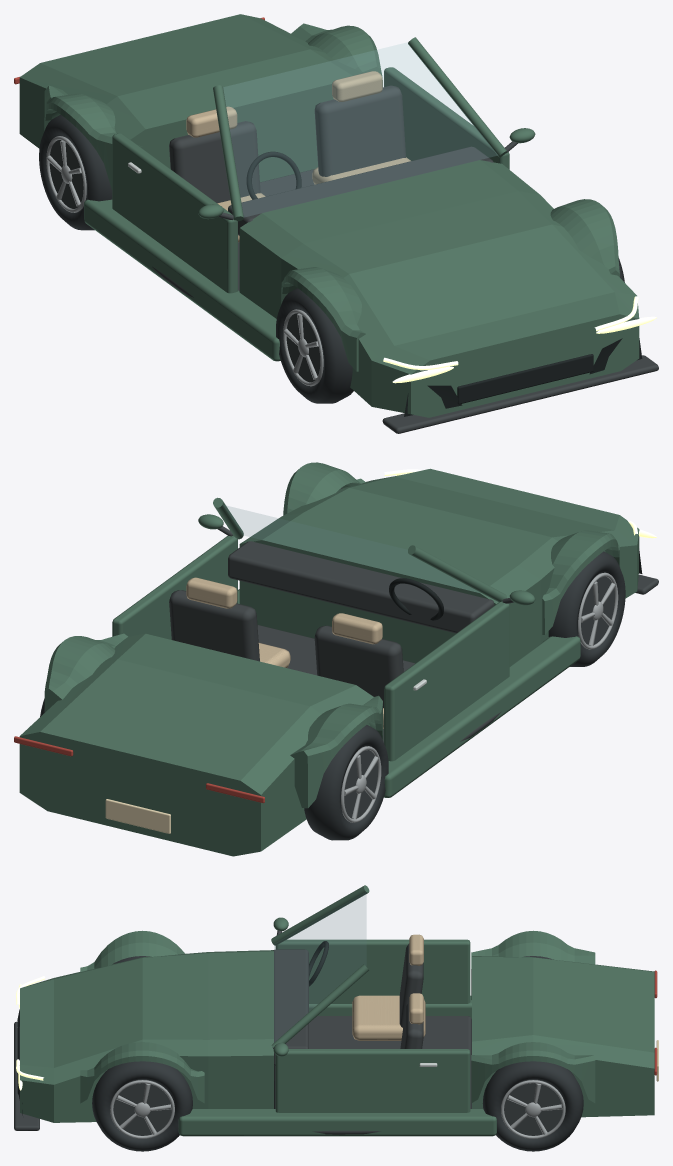
File: car-spider-321cd1ad7da9.glb
The picture shows the model from 3 angles, top to bottom: view 1: azimuth 30°, elevation 25°; view 2: azimuth 150°, elevation 25°; view 3: azimuth 270°, elevation 25°; orthographic projection. The views are drawn at different scales.
Parts seen in each view (by area): view 1: surface_#547765 (×2), surface_Optical_smoke, surface_graphite, surface_rubber, surface_black (×2), surface_linen, surface_steel, surface_lit; view 2: surface_#547765 (×2), surface_graphite, surface_rubber, surface_Optical_smoke, surface_linen, surface_steel, surface_ivory, surface_red, surface_black; view 3: surface_#547765 (×2), surface_graphite, surface_rubber, surface_Optical_smoke, surface_linen, surface_steel, surface_black.
Boxes of the visible parts, x1,y1,x2,y2 form: surface_#547765 (×2): (19,14,639,417); surface_Optical_smoke: (224,43,497,216); surface_graphite: (49,85,658,433); surface_rubber: (39,114,624,403); surface_black (×2): (246,151,642,416); surface_linen: (186,71,410,242); surface_steel: (46,136,323,386); surface_lit: (383,296,656,383); surface_#547765 (×2): (19,462,639,856); surface_graphite: (169,526,658,818); surface_rubber: (40,487,625,840); surface_Optical_smoke: (223,505,479,592); surface_linen: (186,577,383,728); surface_steel: (341,572,618,822); surface_ivory: (105,799,170,833); surface_red: (14,736,264,803); surface_black: (389,578,443,620); surface_#547765 (×2): (20,885,654,1136); surface_graphite: (14,930,562,1135); surface_rubber: (92,956,583,1151); surface_Optical_smoke: (274,892,365,1041); surface_linen: (352,934,425,1040); surface_steel: (110,1080,565,1138); surface_black: (17,941,328,1094).
Bounding box in the file's own units: 1.96 × 1.16 × 3.96.
13 materials, 1 textured.
